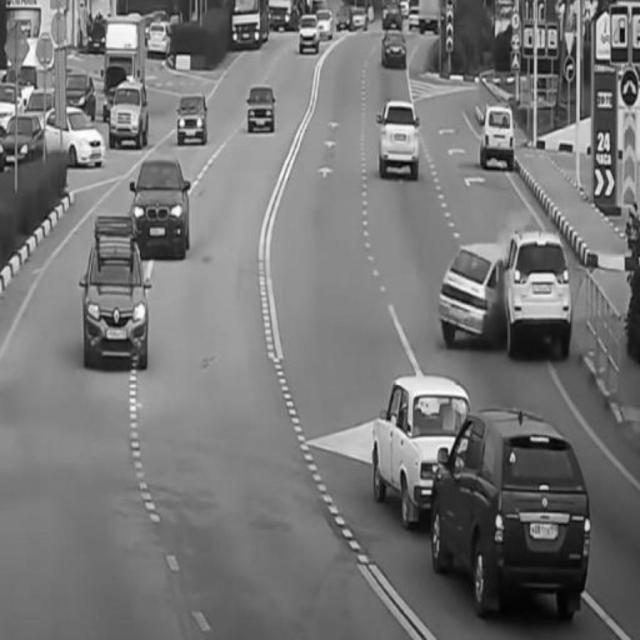accident: (440, 229, 574, 355)
vehicle: (431, 412, 591, 610), (368, 377, 470, 527), (88, 212, 150, 370), (134, 159, 192, 253), (45, 106, 105, 167), (378, 100, 422, 182), (110, 81, 151, 145), (482, 108, 516, 172), (246, 87, 276, 135), (177, 96, 207, 144)
